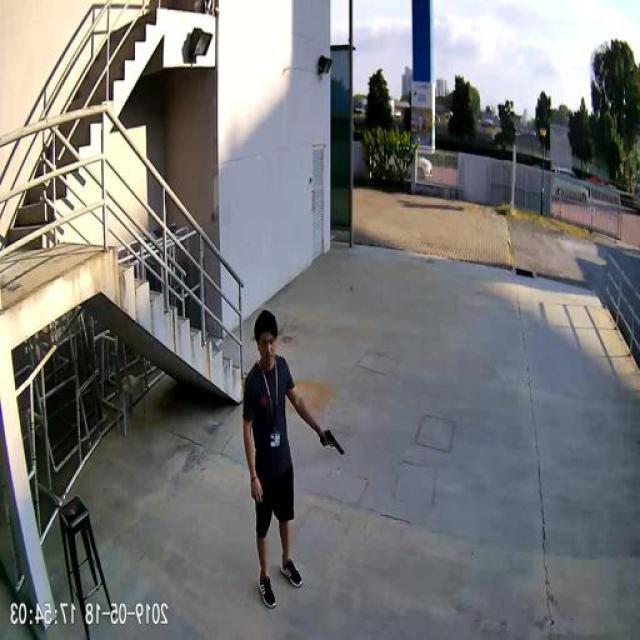weapon: (320, 428, 347, 461)
